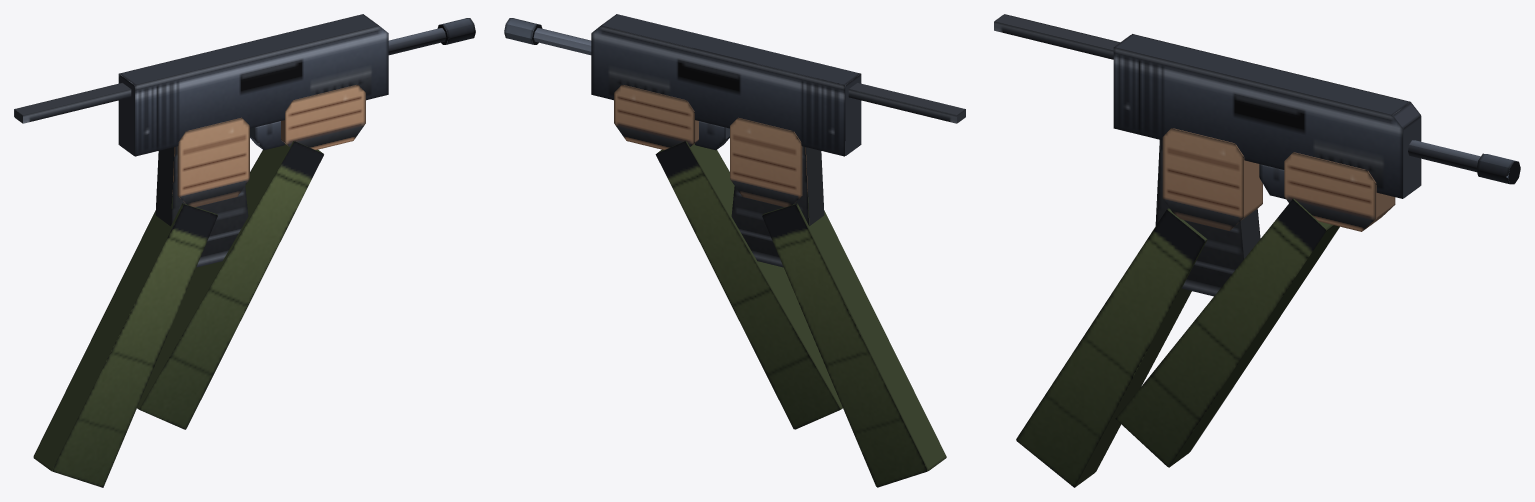
File: smg_fp_model.obj
3 renders of one model, left to right at view 1: azimuth 30°, elevation 25°; view 2: azimuth 150°, elevation 25°; view 3: azimuth 330°, elevation 25°, orthographic. The views are drawn at different scales.
Bounding box in the file's own units: 29.2 × 24.3 × 2.1.
1 material, 1 textured.
